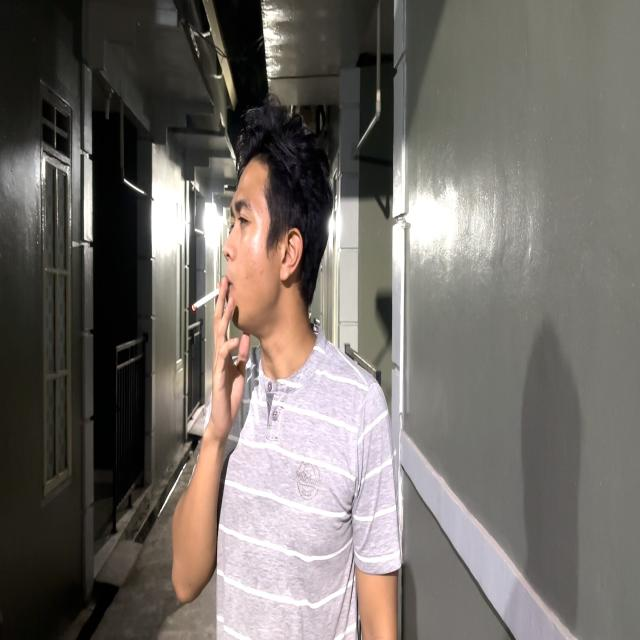cigarette: (192, 285, 224, 313)
smoking: (171, 91, 335, 607)
